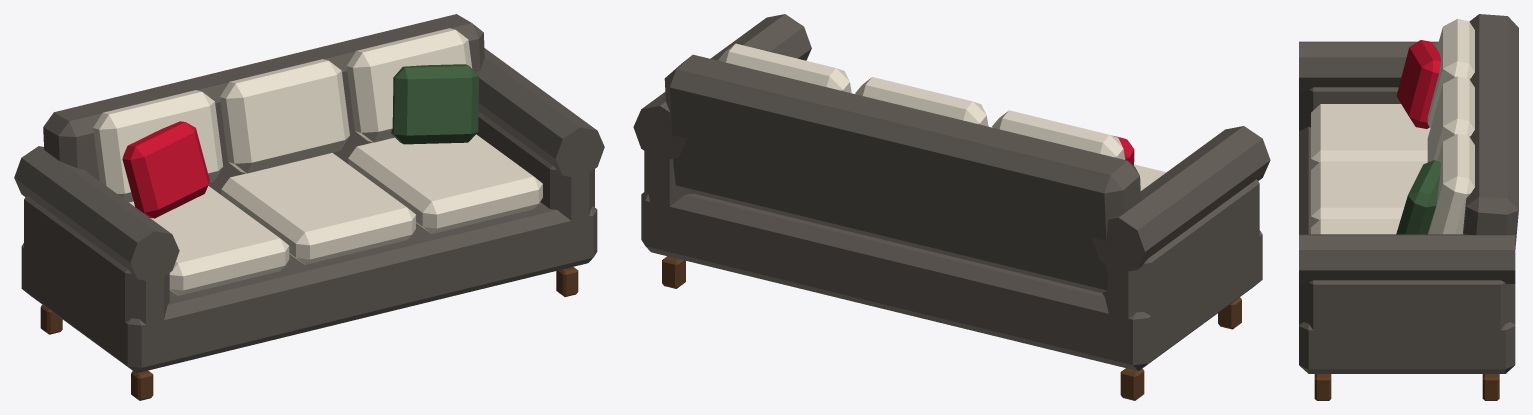
The model's file is sofa.glb.
3 renders of one model, left to right at view 1: azimuth 30°, elevation 25°; view 2: azimuth 150°, elevation 25°; view 3: azimuth 270°, elevation 25°, orthographic. The views are drawn at different scales.
Parts seen in each view (by area): view 1: sofa; view 2: sofa; view 3: sofa.
Part boxes in pixels (x1,y1,x2,y2): sofa: [14, 14, 604, 400]; sofa: [633, 14, 1270, 400]; sofa: [1299, 14, 1518, 400].
Size of the model in its own units: 2.12 by 0.9406 by 0.9156.
